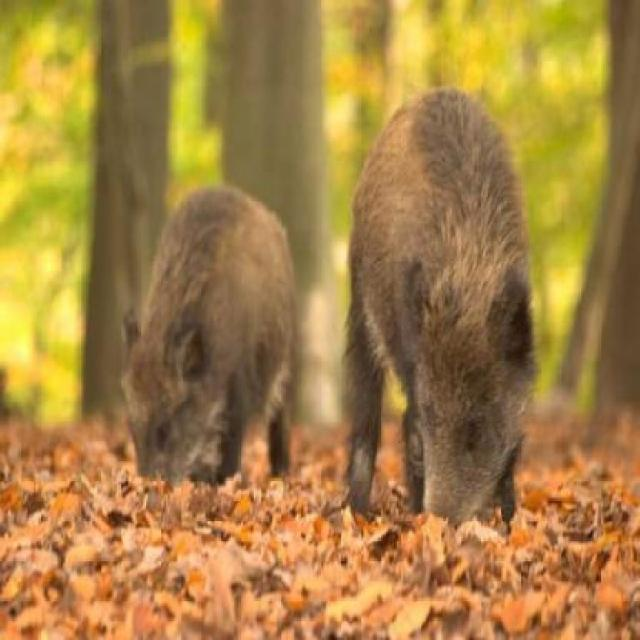pig: (326, 58, 552, 571), (81, 158, 304, 508)
